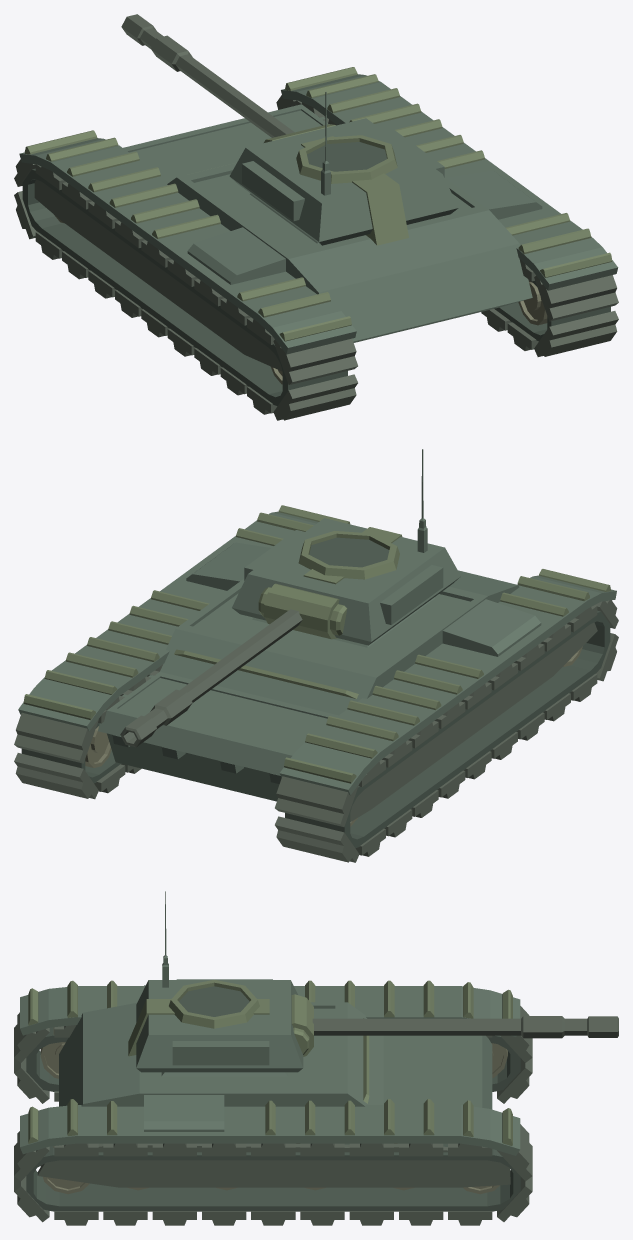
The model's file is tank_olive_target.glb.
The picture shows the model from 3 angles, top to bottom: view 1: azimuth 30°, elevation 25°; view 2: azimuth 150°, elevation 25°; view 3: azimuth 270°, elevation 25°; orthographic projection. The views are drawn at different scales.
Visible parts, largest first — view 1: Hull, TurretMesh, TrackLeft, TrackRight, BarrelMesh; view 2: Hull, TurretMesh, TrackLeft, TrackRight, BarrelMesh; view 3: Hull, TurretMesh, TrackRight, BarrelMesh, TrackLeft.
Boxes of the visible parts, bbox=[...] form: Hull: bbox=[19, 67, 618, 405]; TurretMesh: bbox=[229, 92, 458, 245]; TrackLeft: bbox=[14, 159, 357, 420]; TrackRight: bbox=[276, 95, 618, 356]; BarrelMesh: bbox=[121, 14, 294, 137]; Hull: bbox=[18, 505, 616, 848]; TurretMesh: bbox=[232, 449, 460, 647]; TrackLeft: bbox=[275, 600, 618, 862]; TrackRight: bbox=[14, 664, 162, 799]; BarrelMesh: bbox=[120, 609, 302, 747]; Hull: bbox=[20, 980, 520, 1211]; TurretMesh: bbox=[128, 891, 313, 1076]; TrackRight: bbox=[14, 1124, 532, 1225]; BarrelMesh: bbox=[312, 1016, 618, 1038]; TrackLeft: bbox=[14, 1006, 532, 1103].
Size of the model in its own units: 3.63 by 2.69 by 6.19.
